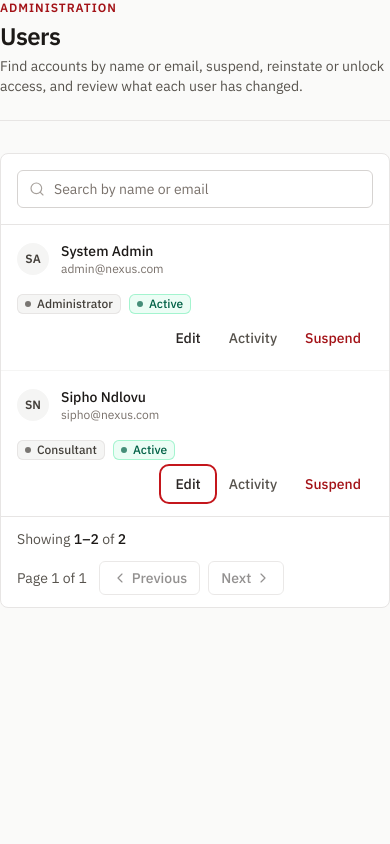
Test case: UsersPage: edit user › opens the dialog with the user’s current values
The image size is (390, 844).
Click the button "Edit" below "Consultant" at (188, 484), box [164,468,213,500]
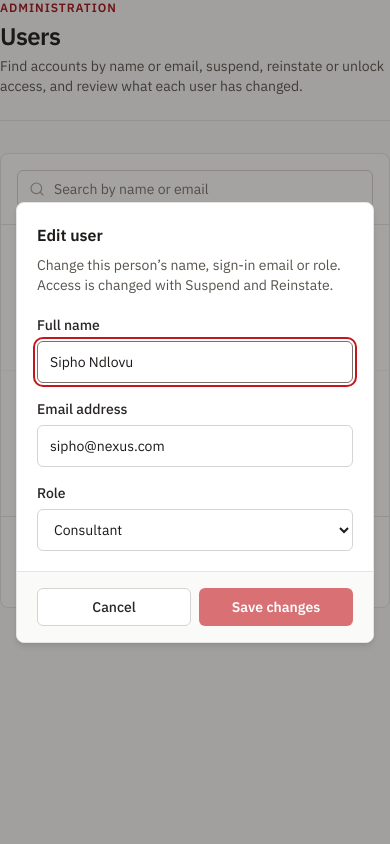
Expected: the field labelled "Full name" holds "Sipho Ndlovu", [37,340,353,382]
Expected: the field labelled "Email address" holds "sipho@nexus.com", [37,424,353,466]
Expected: the dropdown labelled "Role" shows "Consultant", [37,508,353,550]
